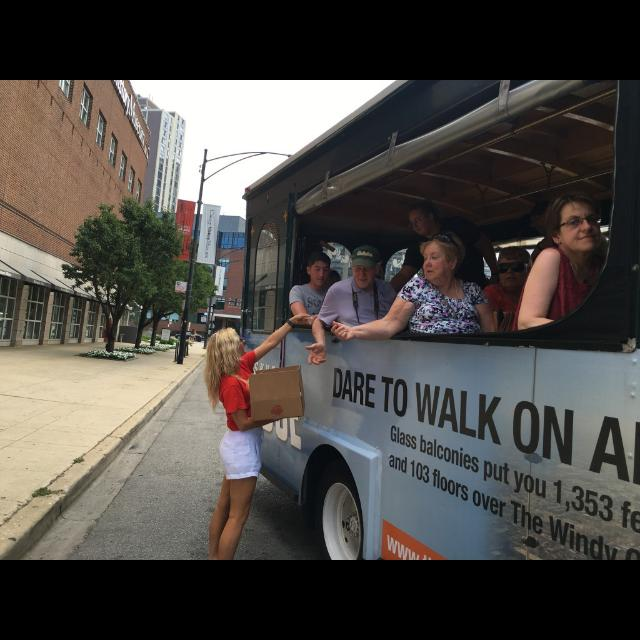head: (435, 209, 503, 367), (550, 194, 600, 253), (422, 234, 462, 284), (498, 246, 534, 290), (352, 247, 383, 290), (209, 328, 247, 362), (408, 201, 438, 237), (306, 251, 332, 287), (325, 270, 343, 290), (192, 329, 196, 333)
person: (330, 228, 522, 444), (358, 194, 477, 400), (304, 243, 424, 425), (478, 244, 570, 416), (435, 209, 503, 367), (288, 250, 354, 392), (316, 268, 366, 387), (189, 328, 197, 348)
